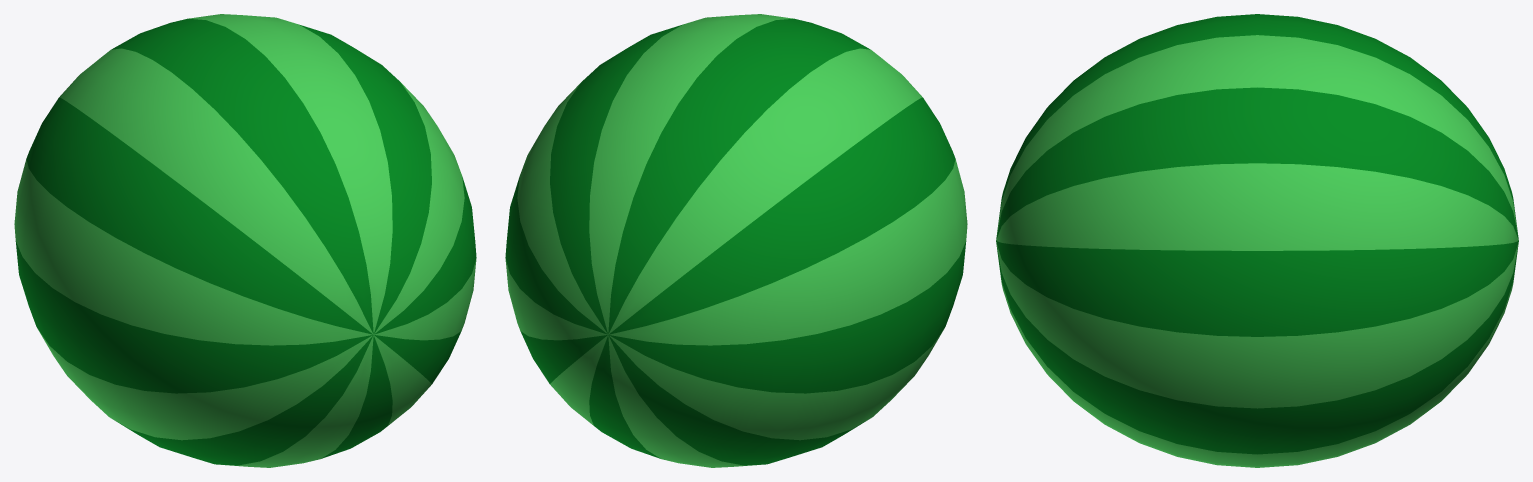
Rendered from Watermelon.fbx.
3 renders of one model, left to right at view 1: azimuth 30°, elevation 25°; view 2: azimuth 150°, elevation 25°; view 3: azimuth 270°, elevation 25°, orthographic.
Parts seen in each view (by area): view 1: Watermelon; view 2: Watermelon; view 3: Watermelon.
Boxes of the visible parts, x1,y1,x2,y2 form: Watermelon: [14, 14, 476, 467]; Watermelon: [505, 14, 967, 467]; Watermelon: [996, 14, 1518, 467].
Size of the model in its own units: 192 by 192 by 221.
